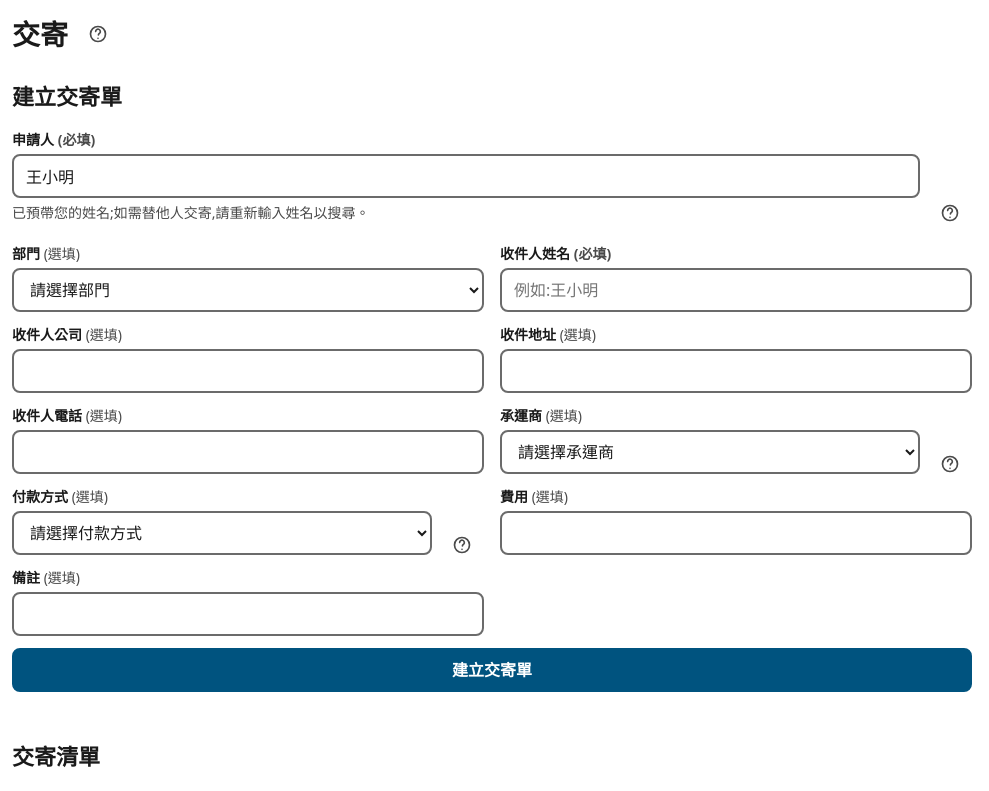
Test: OutboundPage › creates an outbound item with the recipient name and shows the success message
In the field labelled "收件人姓名 (必填)": (736, 290) [500,268,972,312], type "客戶 A"
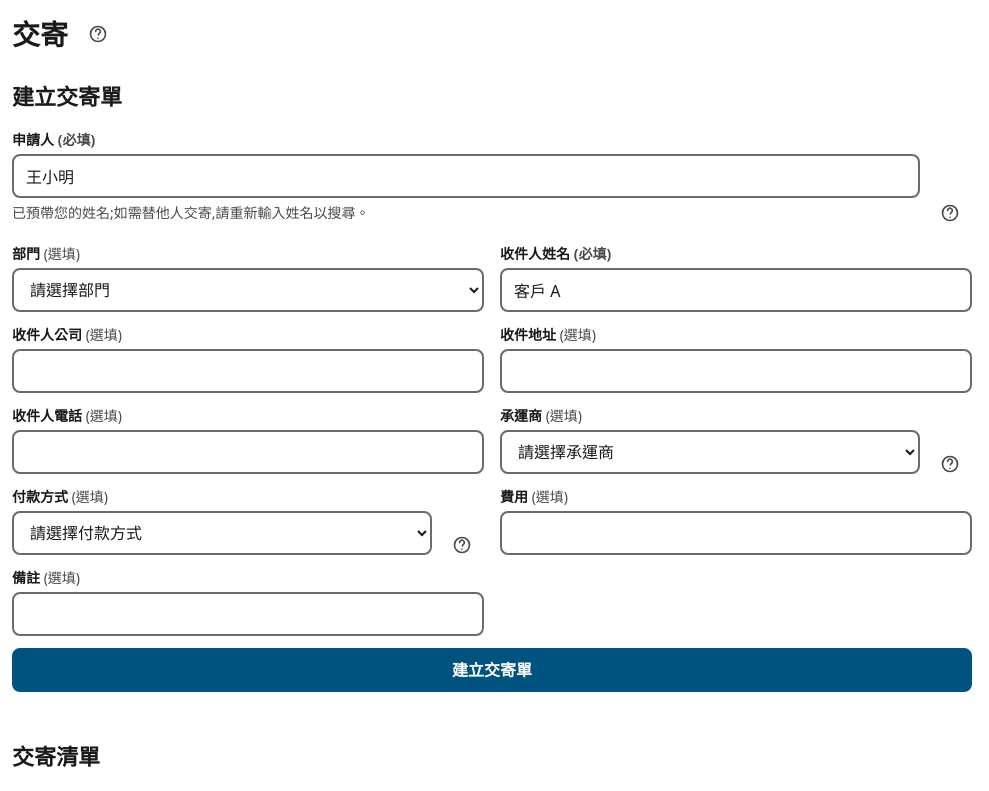
Submit the form that starts with "申請人"
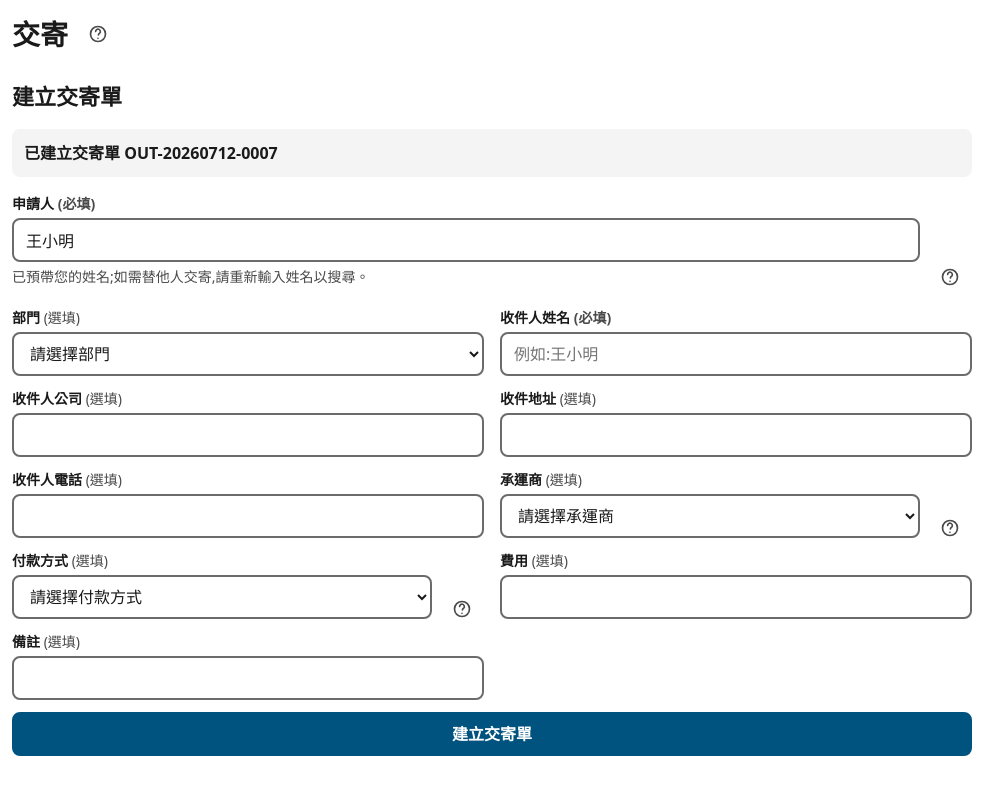
expect the text "OUT-20260712-0007" is shown: met, box [24,142,278,164]
